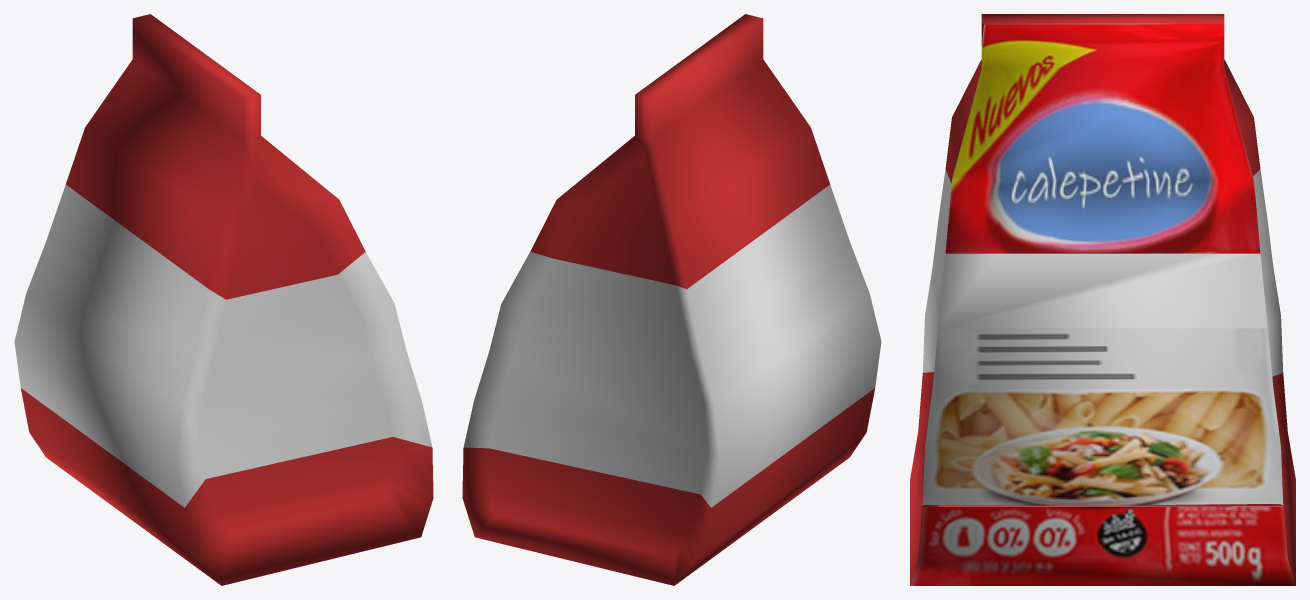
File: FIDEOS.fbx
3 views of the same model, side by side, from view 1: azimuth 30°, elevation 25°; view 2: azimuth 150°, elevation 25°; view 3: azimuth 270°, elevation 25° (orthographic). The views are drawn at different scales.
Visible parts, largest first — view 1: Cube.001; view 2: Cube.001; view 3: Cube.001.
Boxes of the visible parts, x1,y1,x2,y2 form: Cube.001: (14,14,433,585); Cube.001: (462,14,881,585); Cube.001: (910,14,1295,585).
Size of the model in its own units: 170 by 287 by 203.
Materials: 5 (3 with a texture image).
